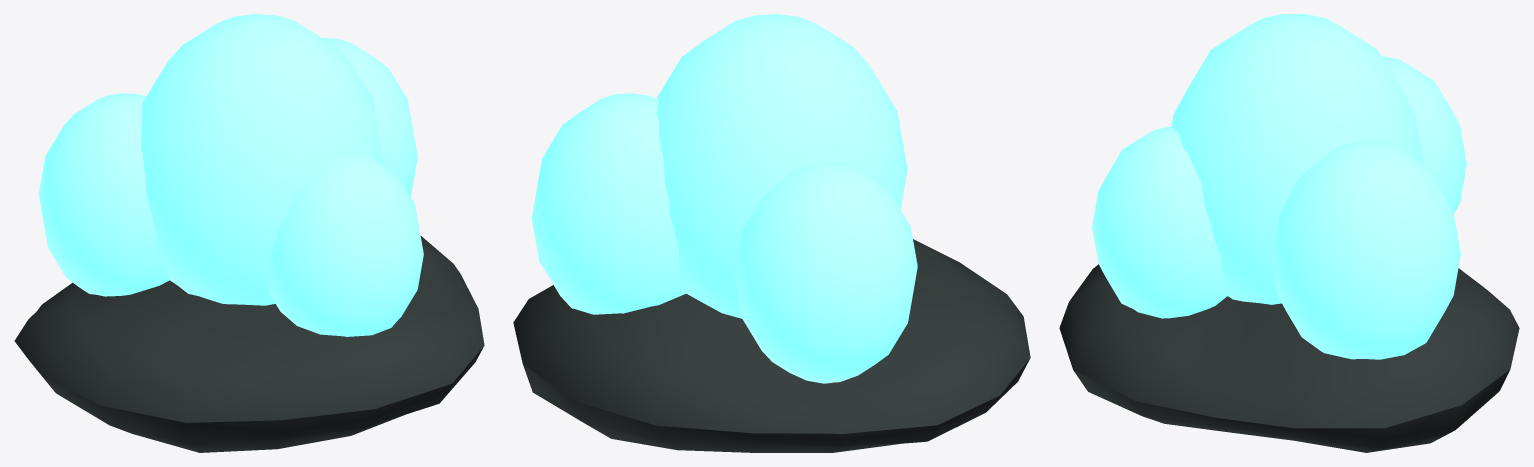
File: egg_sac.glb
The picture shows the model from 3 angles, left to right: view 1: azimuth 30°, elevation 25°; view 2: azimuth 150°, elevation 25°; view 3: azimuth 270°, elevation 25°; orthographic projection. The views are drawn at different scales.
Parts seen in each view (by area): view 1: body_mesh; view 2: body_mesh; view 3: body_mesh.
Boxes of the visible parts, x1,y1,x2,y2 form: body_mesh: (14,14,484,452); body_mesh: (513,14,1030,452); body_mesh: (1059,14,1519,452).
Size of the model in its own units: 0.8232 by 0.6932 by 0.7733.
